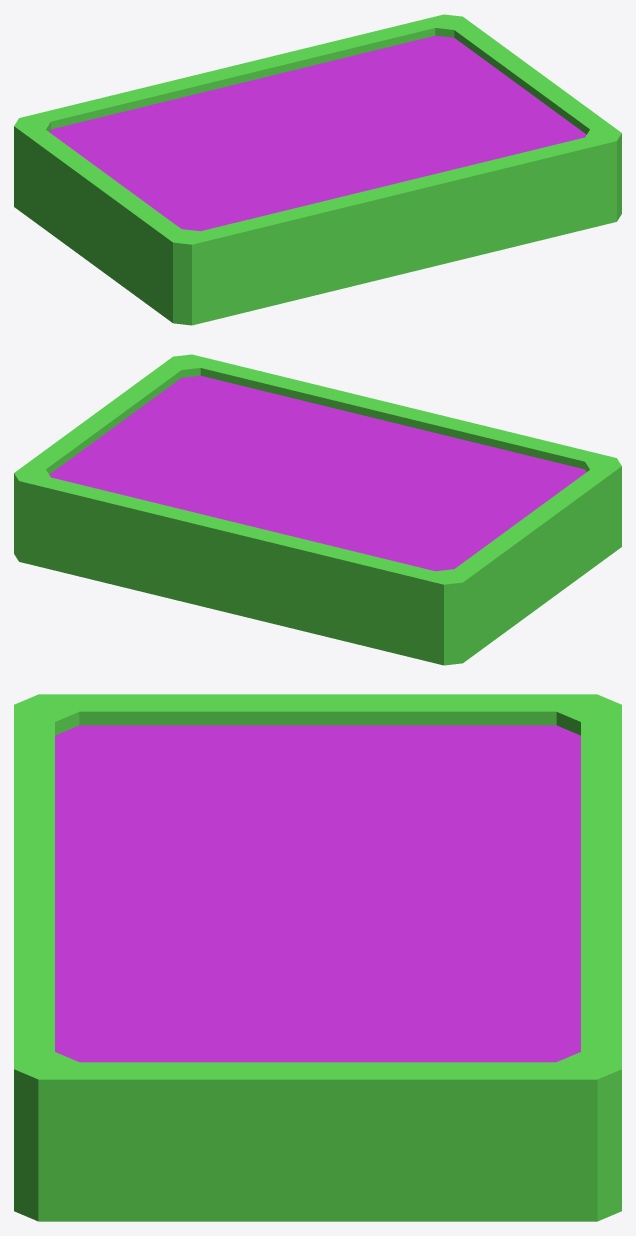
The model's file is Weapon_Box_02.fbx.
The picture shows the model from 3 angles, top to bottom: view 1: azimuth 30°, elevation 25°; view 2: azimuth 150°, elevation 25°; view 3: azimuth 270°, elevation 25°; orthographic projection. The views are drawn at different scales.
Parts seen in each view (by area): view 1: Weapon_Box_02; view 2: Weapon_Box_02; view 3: Weapon_Box_02.
Part boxes in pixels (x1,y1,x2,y2): Weapon_Box_02: (14, 14, 621, 325); Weapon_Box_02: (14, 354, 621, 665); Weapon_Box_02: (14, 694, 621, 1221).
Bounding box in the file's own units: 91.35 × 15.71 × 60.96.
